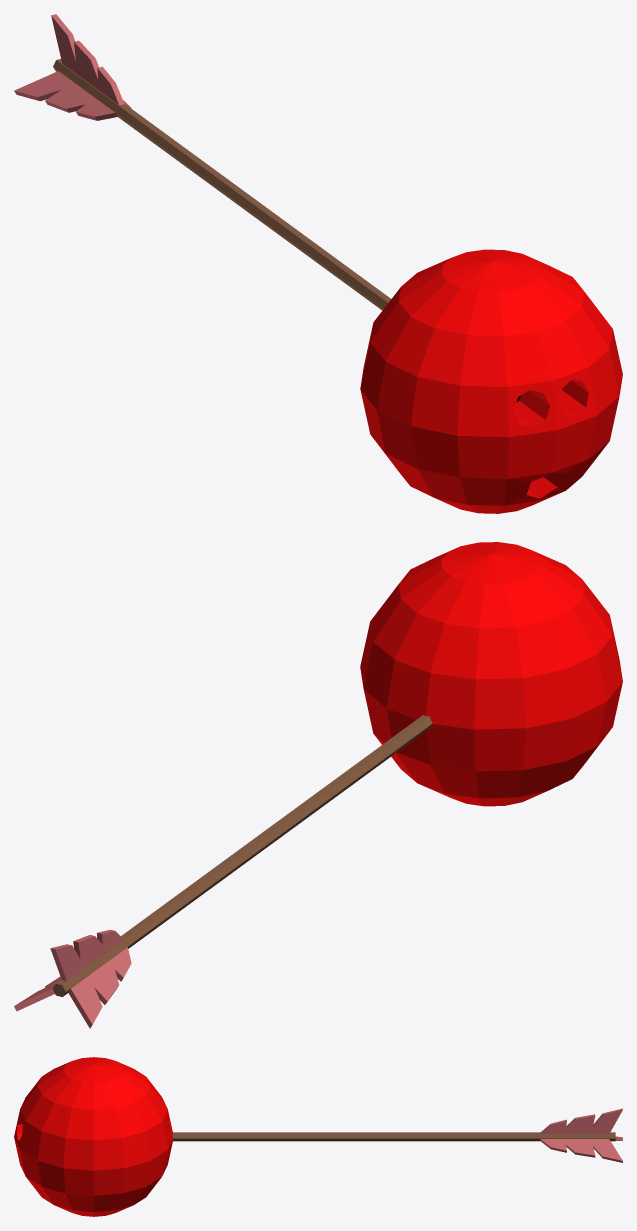
The model's file is Boling_arrow_4.fbx.
The picture shows the model from 3 angles, top to bottom: view 1: azimuth 30°, elevation 25°; view 2: azimuth 150°, elevation 25°; view 3: azimuth 270°, elevation 25°; orthographic projection. The views are drawn at different scales.
Parts seen in each view (by area): view 1: Arrow.003; view 2: Arrow.003; view 3: Arrow.003.
Part boxes in pixels (x1,y1,x2,y2): Arrow.003: (14, 14, 622, 513); Arrow.003: (14, 542, 622, 1028); Arrow.003: (14, 1057, 622, 1216).
Bounding box in the file's own units: 80 × 80 × 305.
